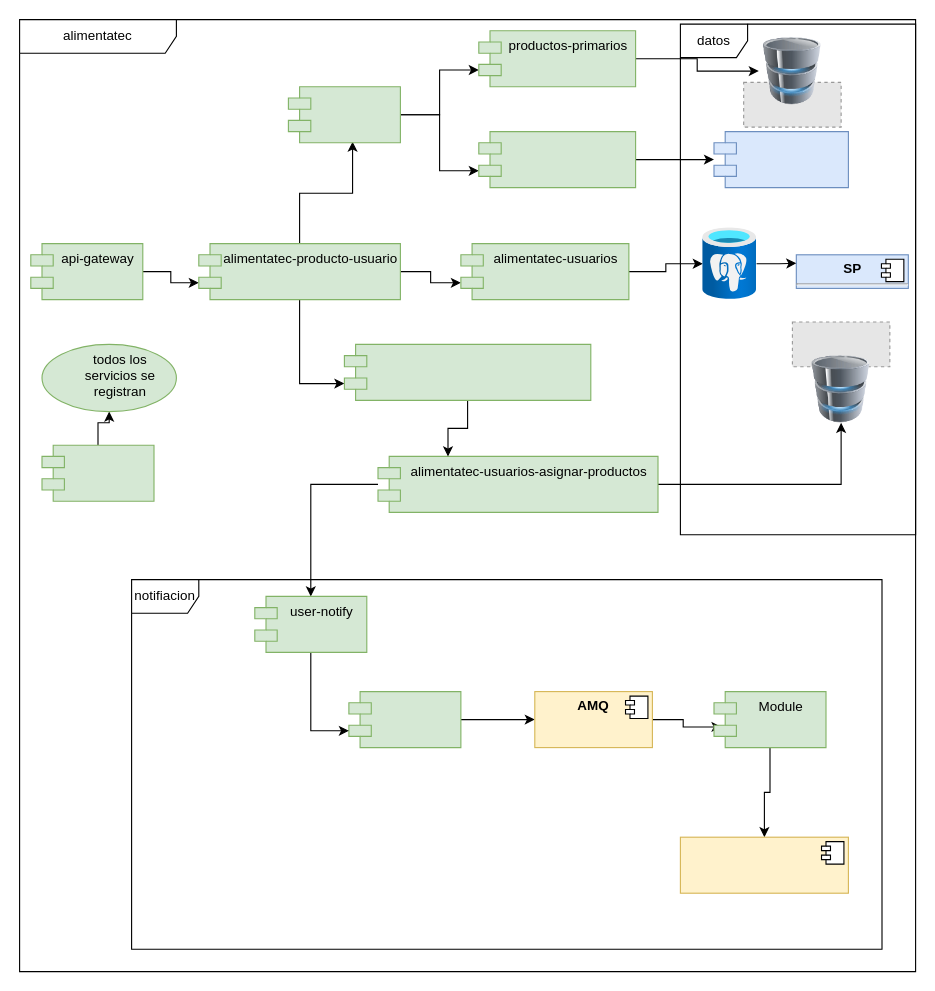
Image size: 935x991. Some labels were removed from this diagram. Grey dashed boxes stand in for pictures. Each missing label, with the centre of its shape:
"alimentatec-registrar-producto-usuario" goes at (467,371).
"eureka-server" goes at (97,472).
"ms-products-sec" goes at (780,159).
"NOTIFICACION" goes at (763,864).
"ofertas" goes at (343,114).
"ofertas-secundarias" goes at (557,159).
"producer" goes at (404,719).
